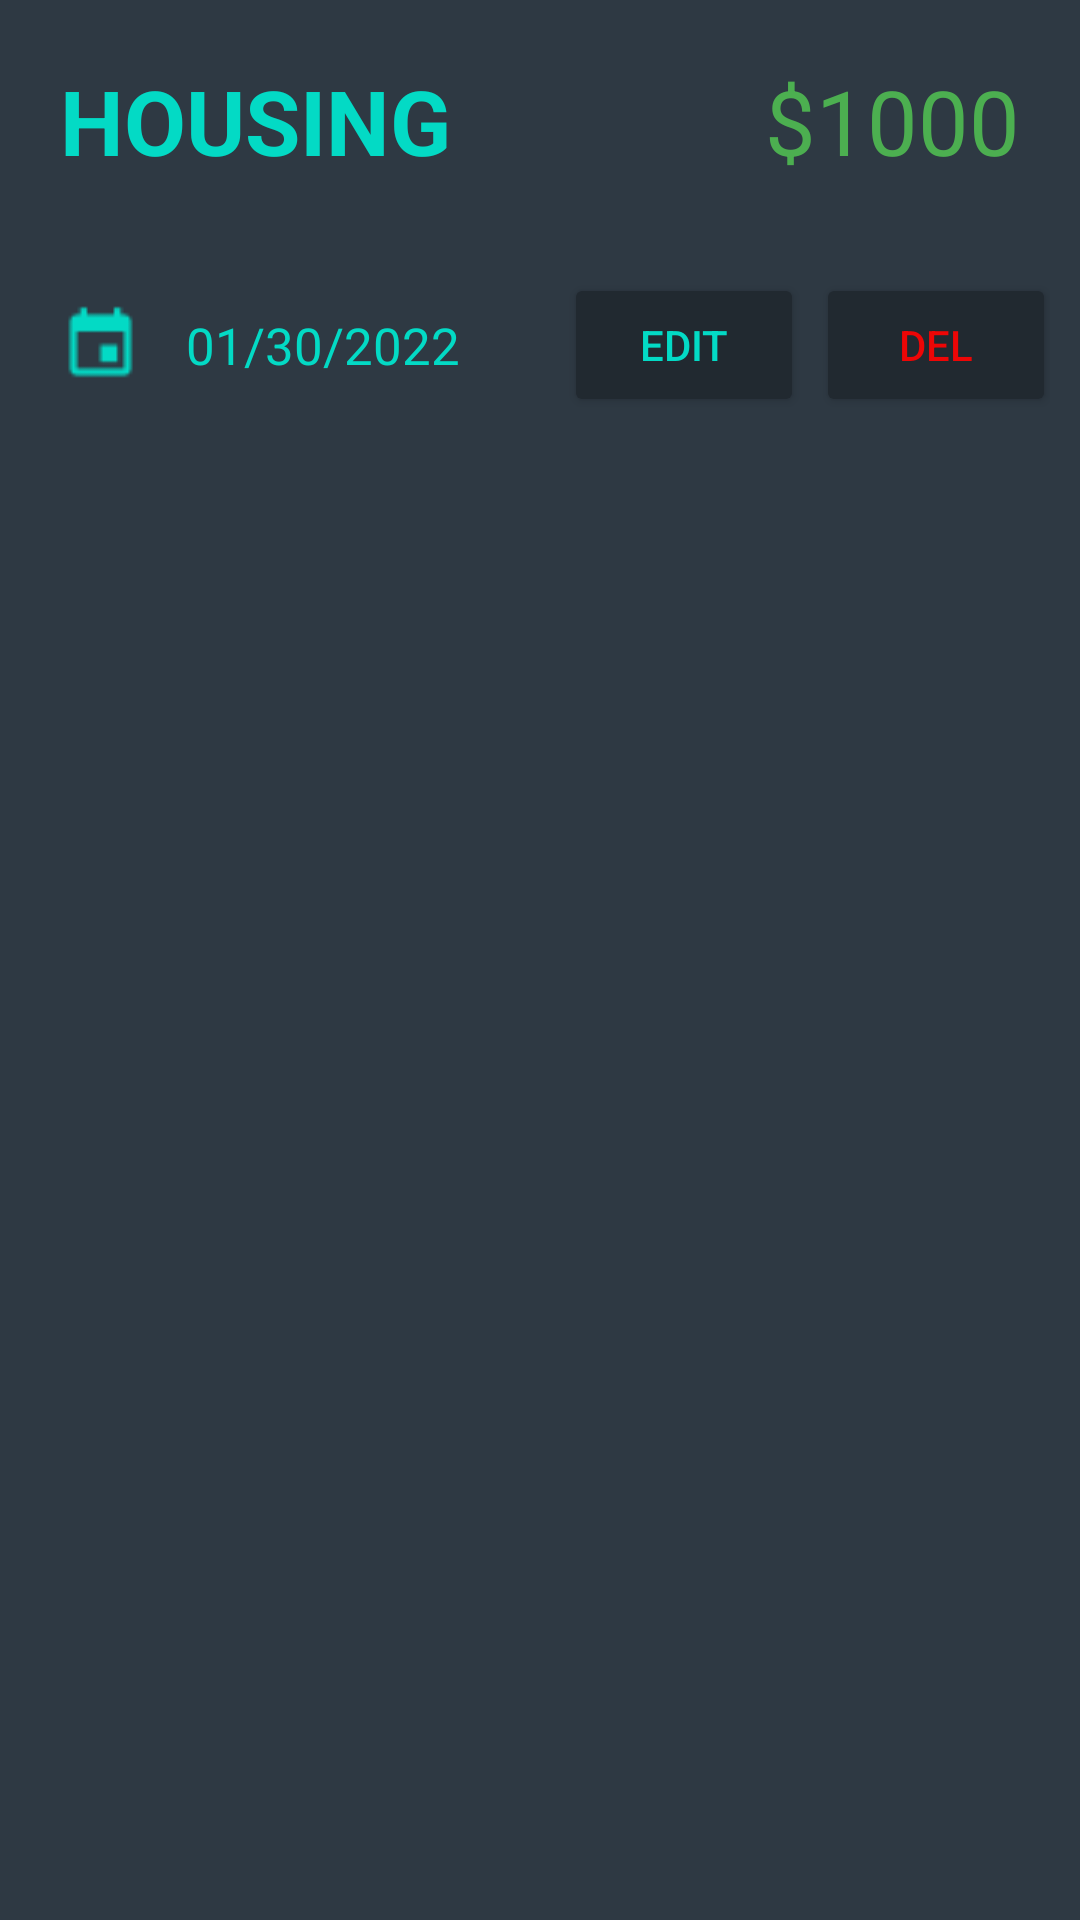

Where icons sit on this 1080x1920 app screen, as {"left": x1, "top": y1, "right": x2, "bottom": y2}:
event: {"left": 68, "top": 307, "right": 133, "bottom": 377}
